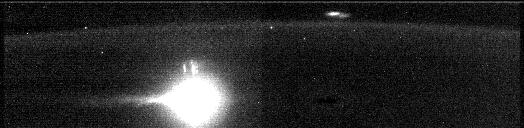positive: (179, 58, 201, 78)
